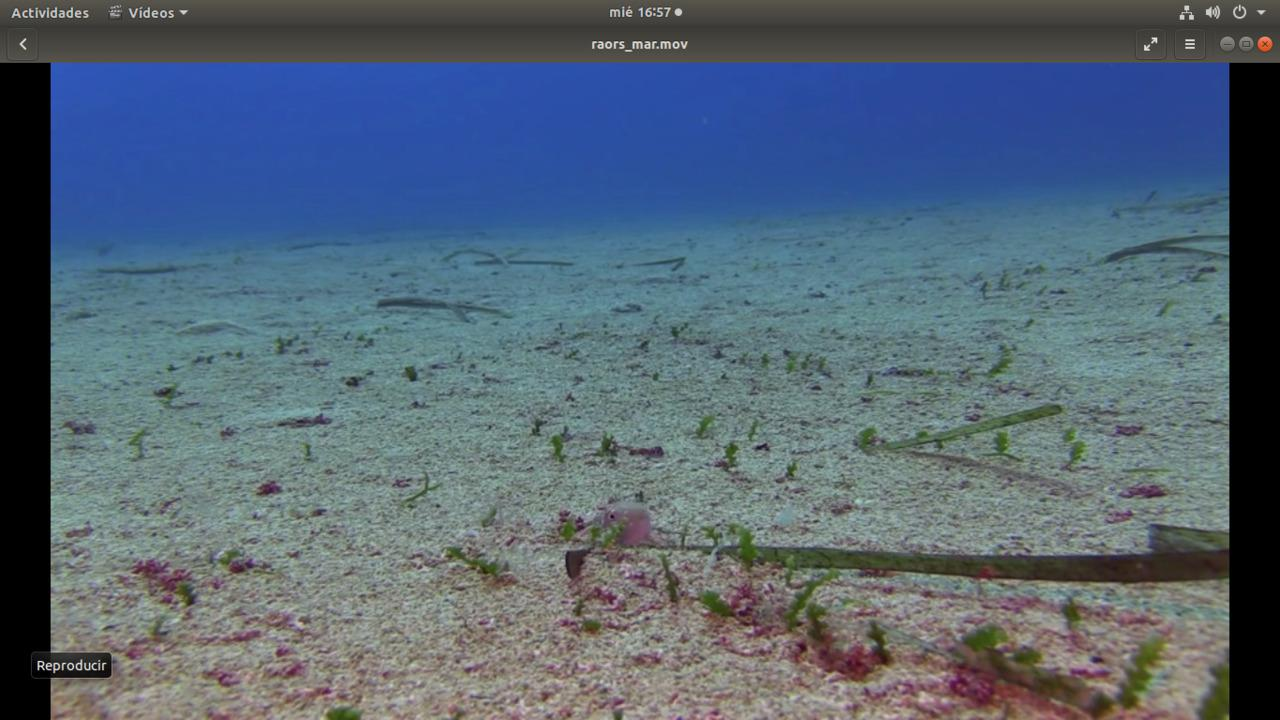raor: (557, 495, 652, 557)
